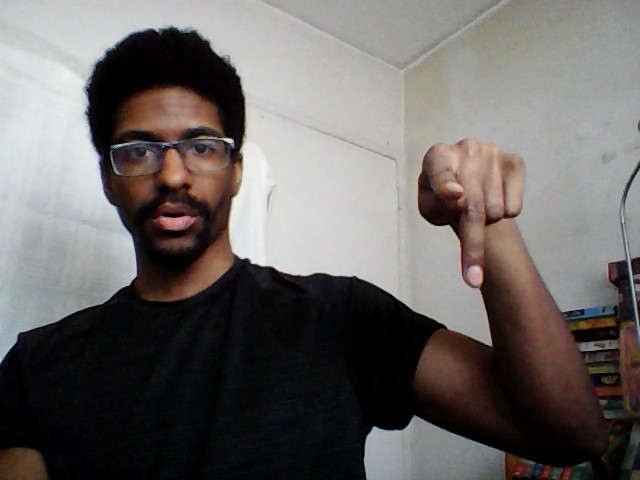p: (413, 132, 530, 292)
